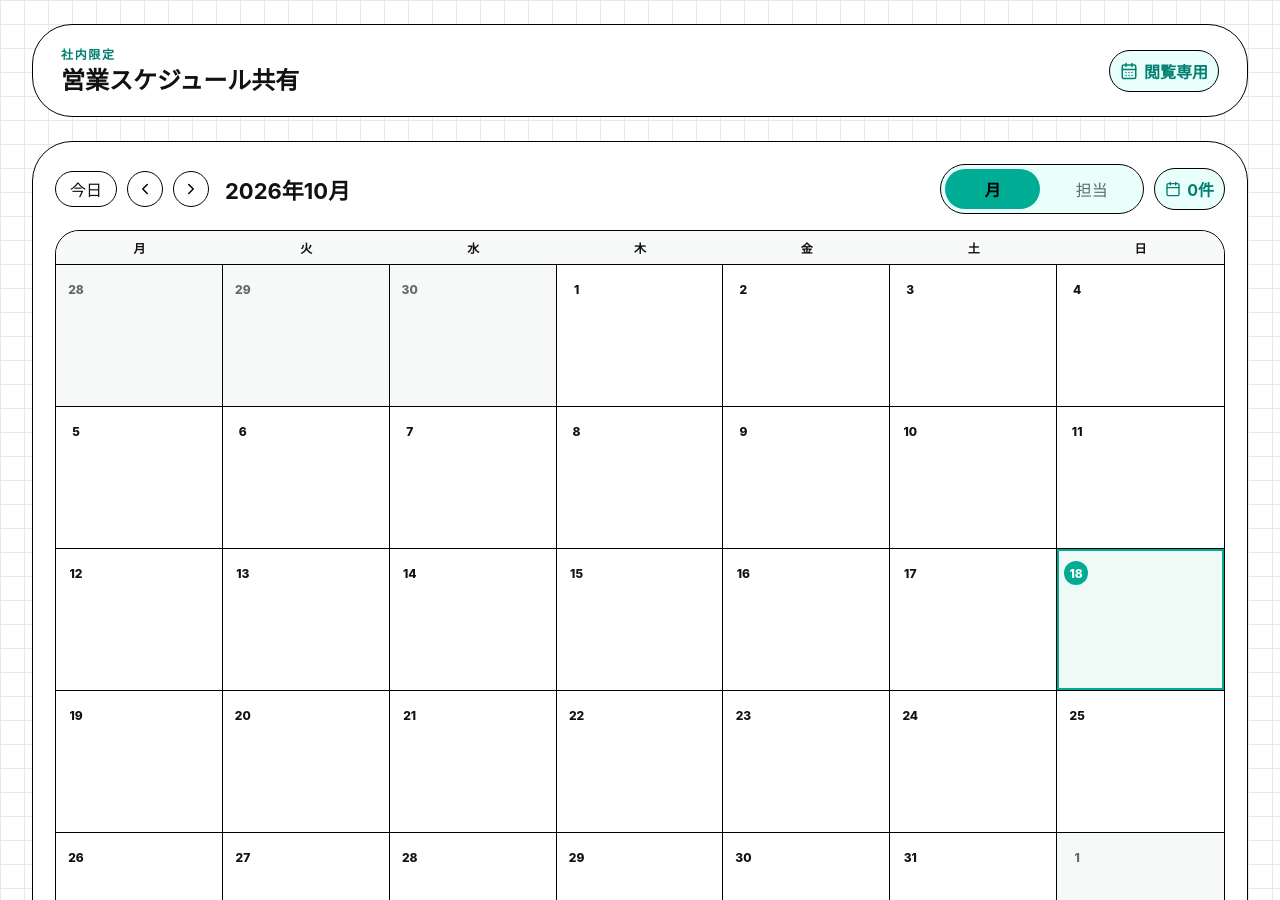
Test case: ScheduleApp › 月外の日付を選ぶと表示月が移り、その日が選択される
Click the 1st button "30": [473, 289] box 395,270 -> 551,308
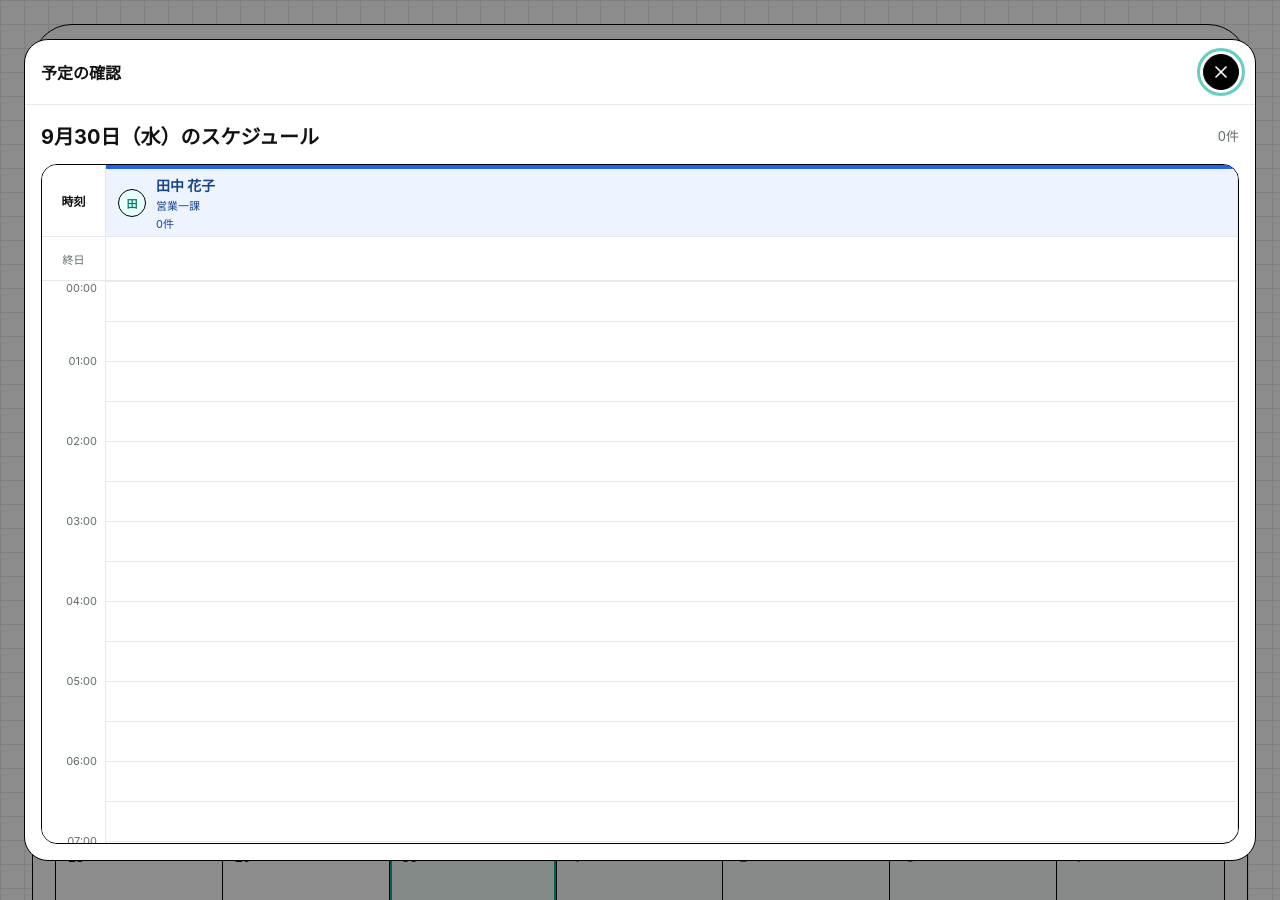
Click the button named "日付の予定を閉じる": [1221, 72] box 1203,54 -> 1239,90
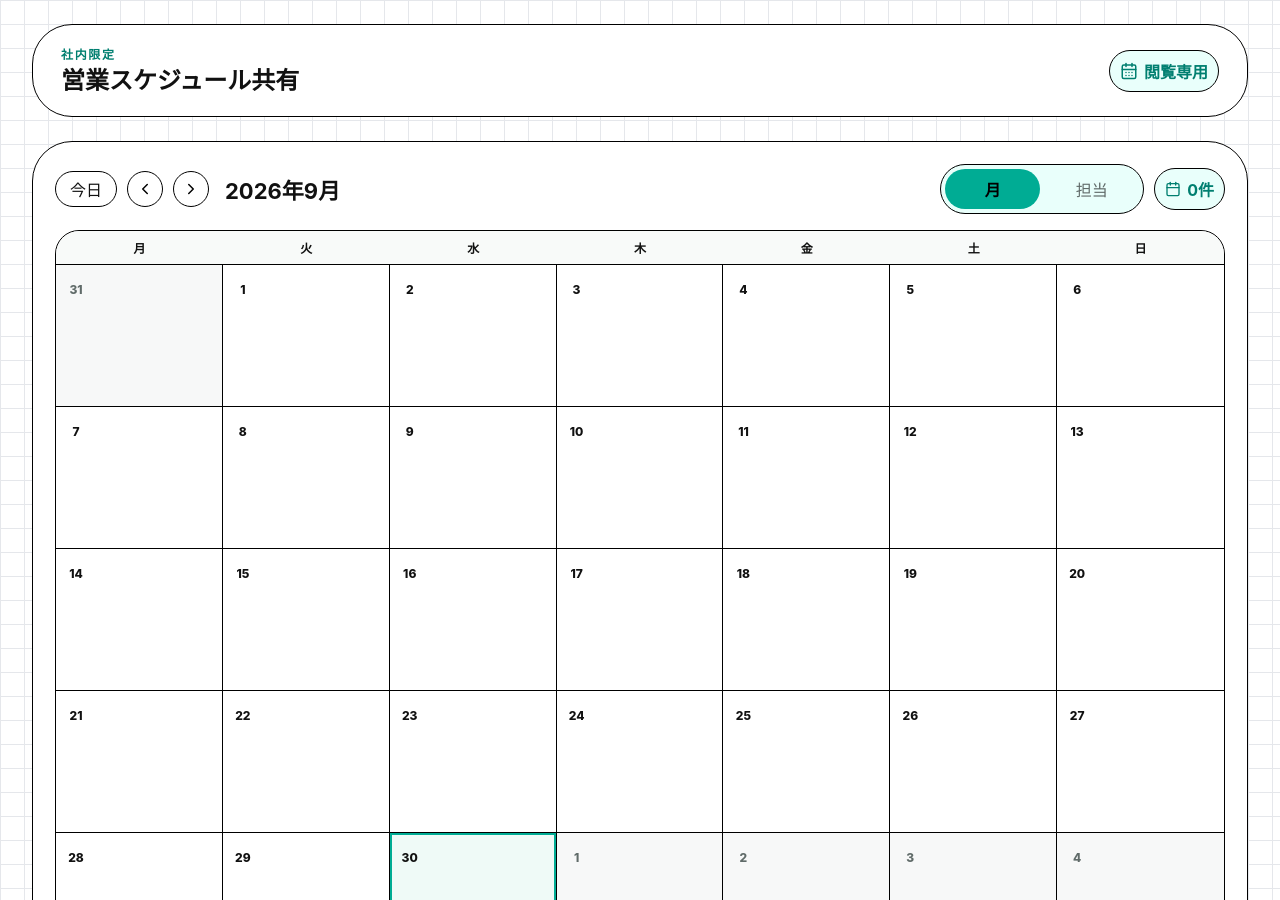
Result: the dialog "日付の予定" is gone
